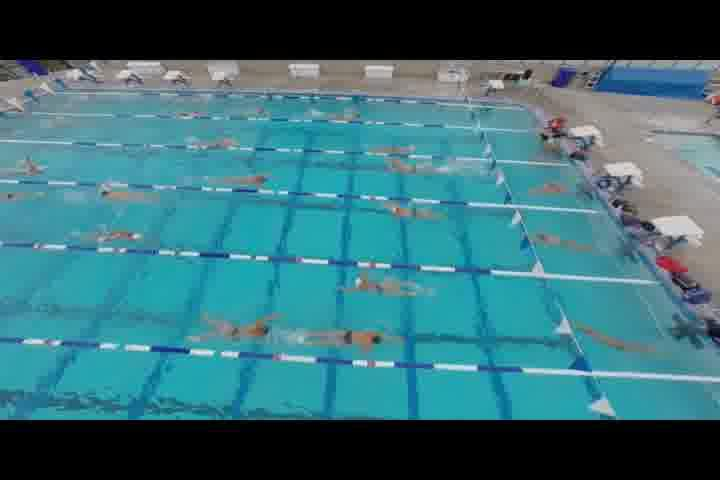human: (195, 314, 288, 339), (290, 331, 390, 352), (348, 274, 416, 299)
